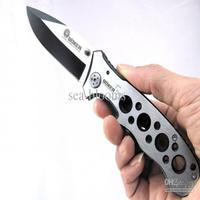knife: (23, 2, 190, 188)
